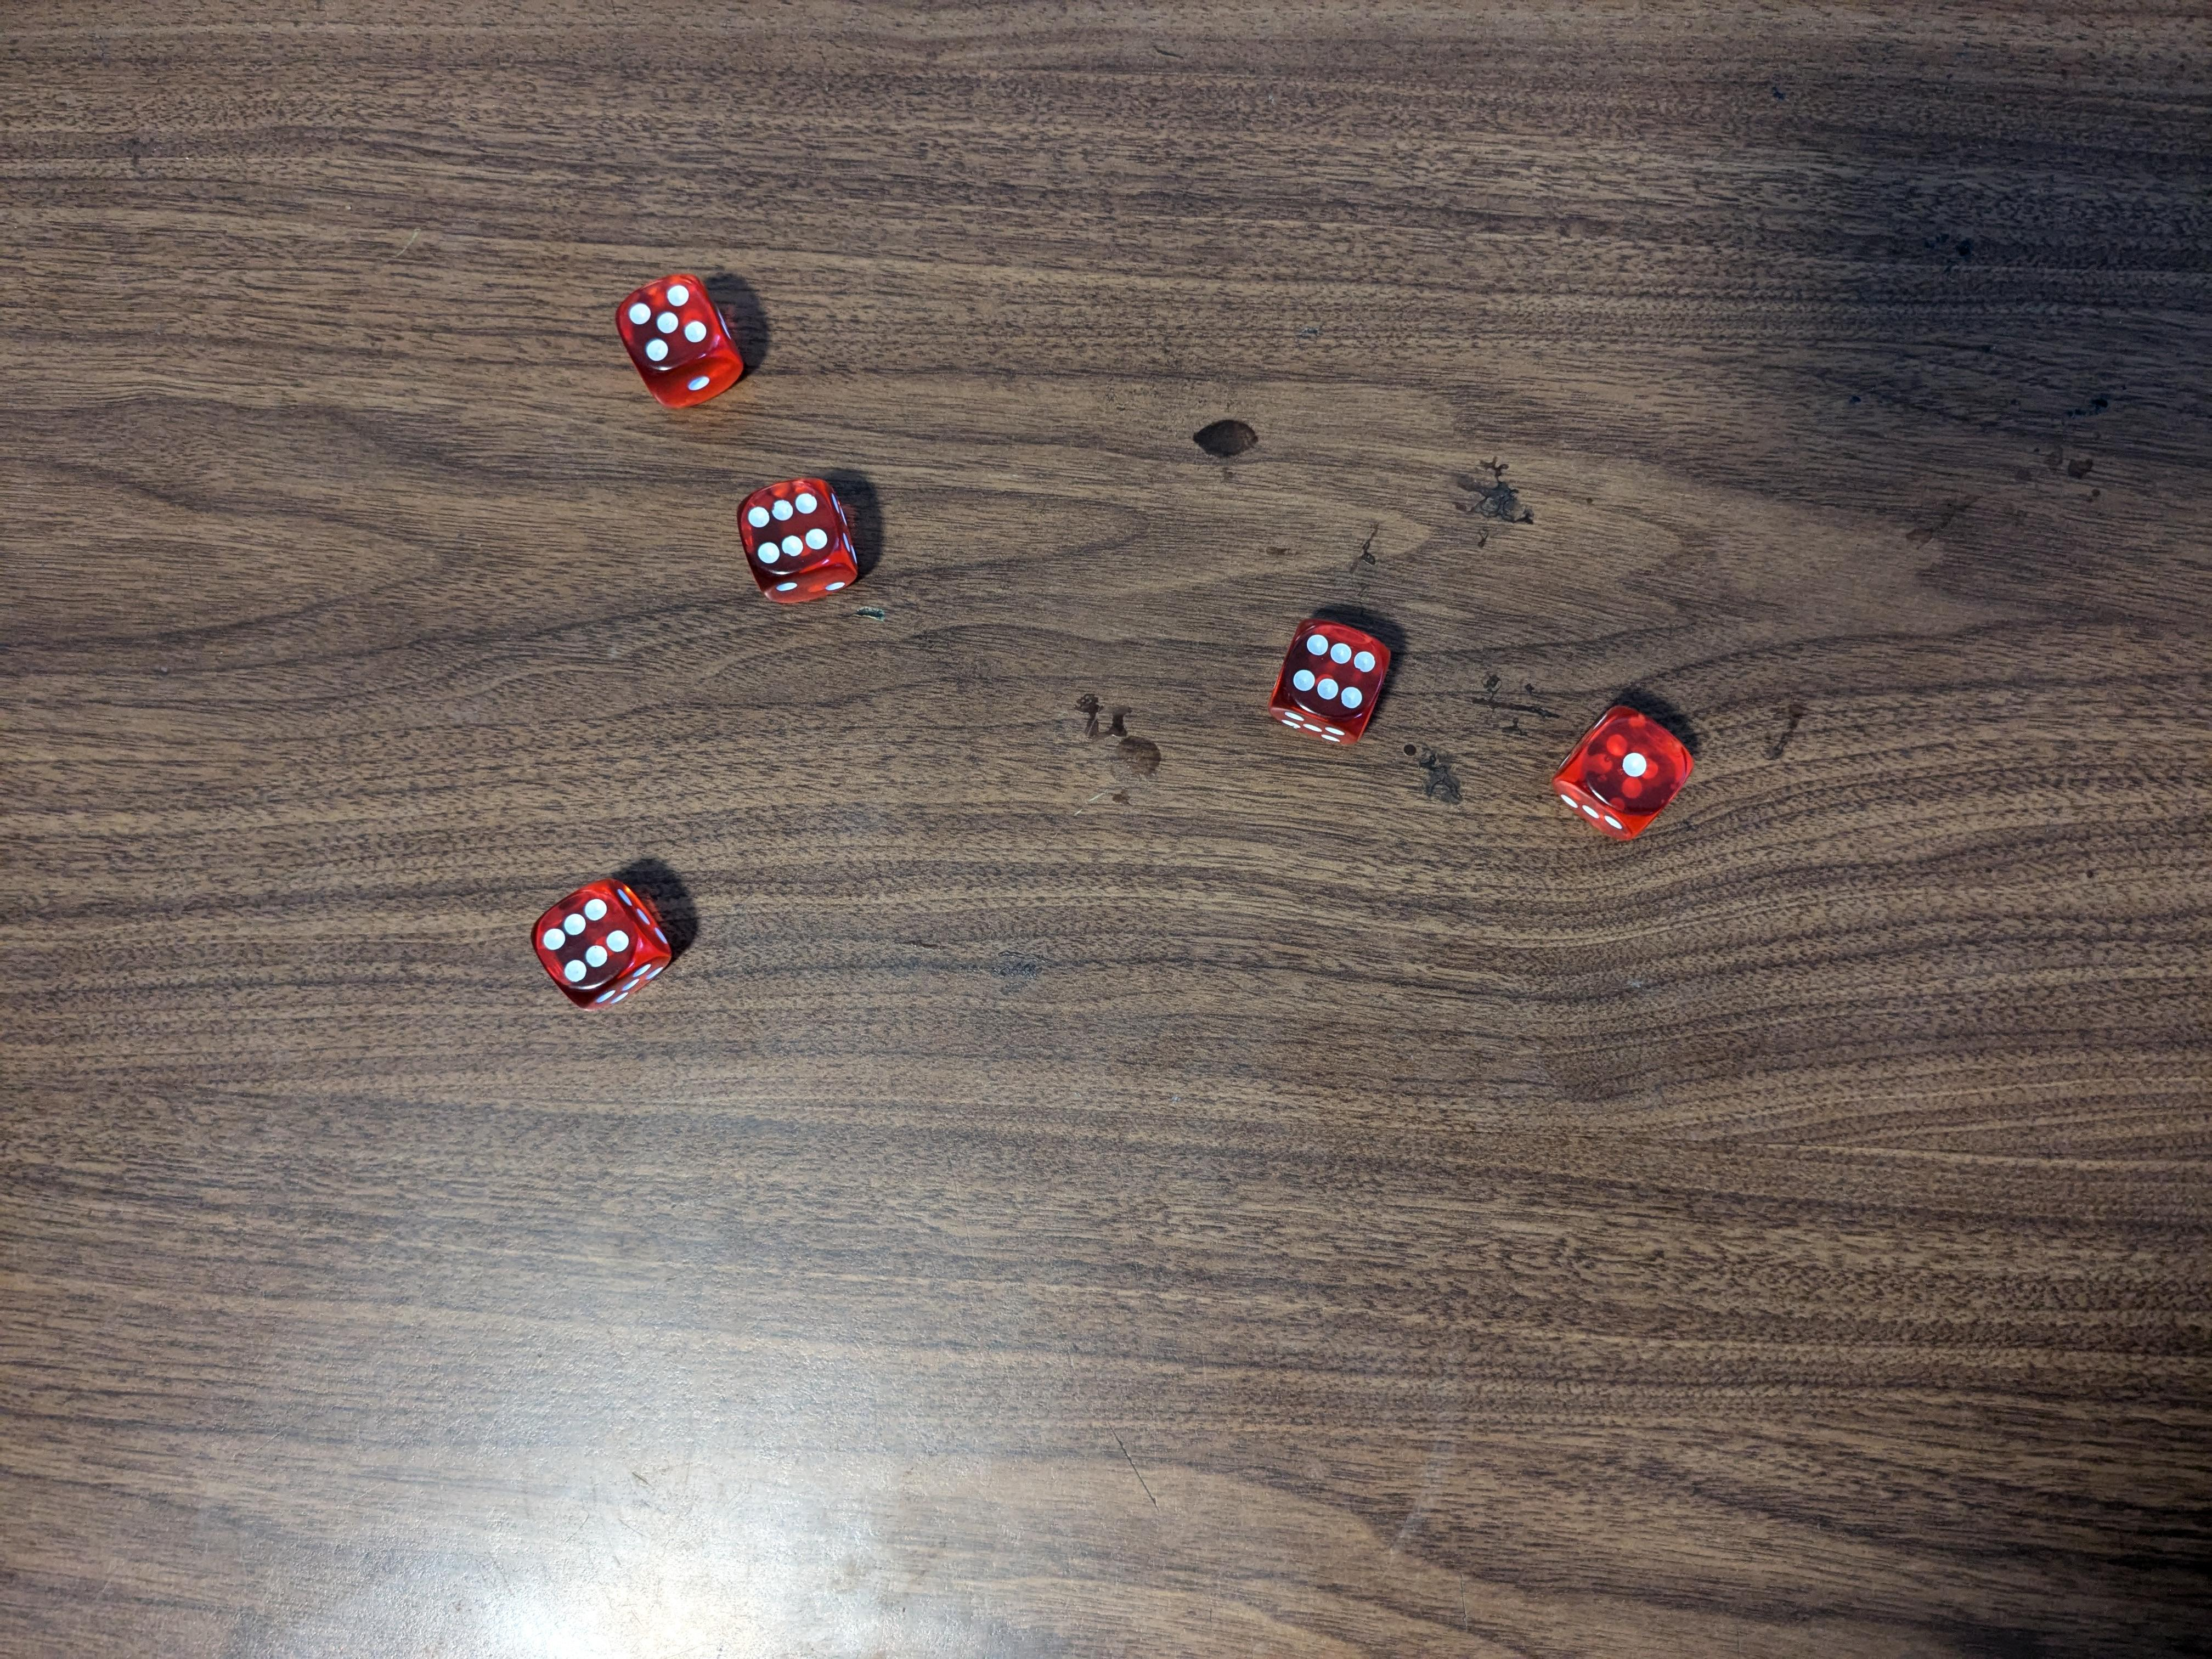five: (618, 263, 744, 403)
one: (1548, 699, 1698, 836)
six: (1261, 615, 1406, 746), (526, 878, 669, 1004), (740, 472, 860, 601)
